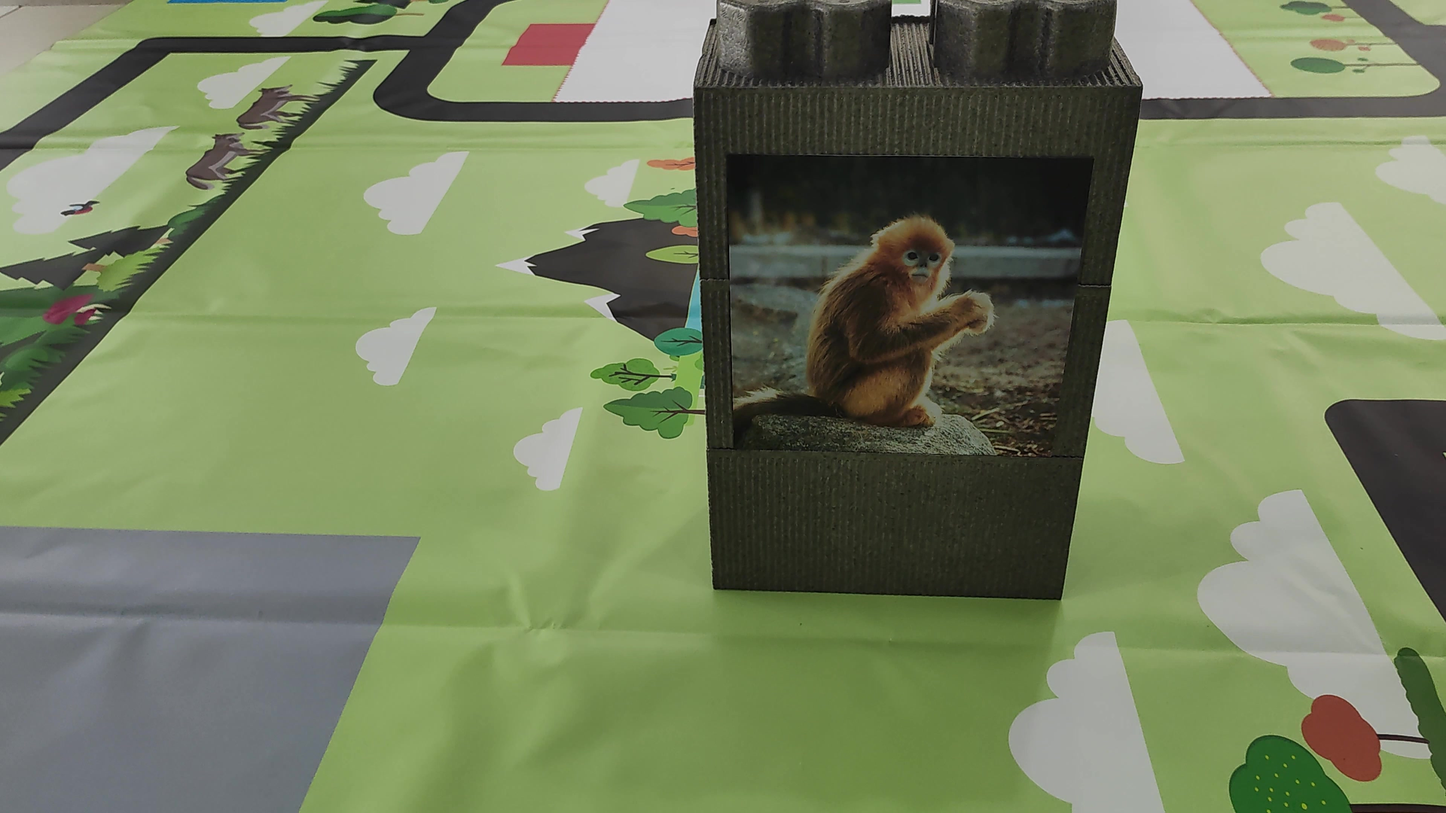monkey: (787, 167, 1036, 445)
